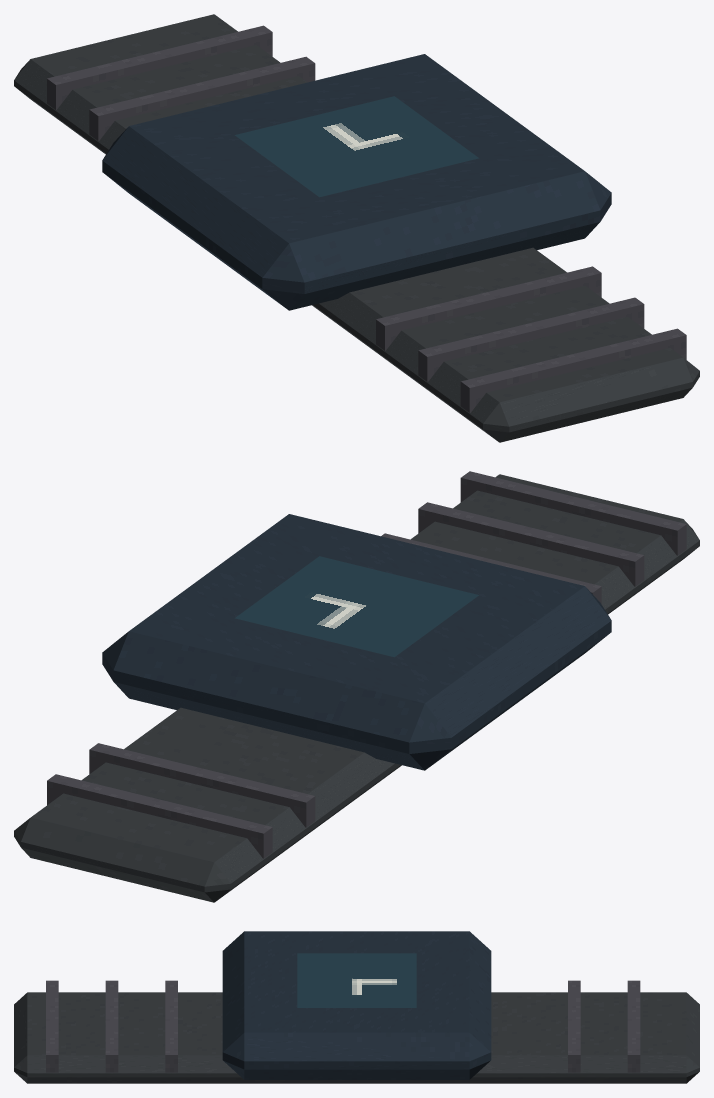
Rendered from smart_watch.glb.
3 views of the same model, one above another, from view 1: azimuth 30°, elevation 25°; view 2: azimuth 150°, elevation 25°; view 3: azimuth 270°, elevation 25° (orthographic). The views are drawn at different scales.
Parts seen in each view (by area): view 1: block_rectangular screen, block_wrist strap, block_bracelet segment (×5), block_watch face; view 2: block_rectangular screen, block_wrist strap, block_bracelet segment (×5), block_watch face; view 3: block_wrist strap, block_rectangular screen, block_watch face, block_bracelet segment (×5).
Part boxes in pixels (bbox=[...]): block_rectangular screen: bbox=[102, 54, 611, 310]; block_wrist strap: bbox=[14, 14, 699, 442]; block_bracelet segment (×5): bbox=[47, 25, 686, 412]; block_watch face: bbox=[235, 96, 478, 197]; block_rectangular screen: bbox=[102, 514, 611, 770]; block_wrist strap: bbox=[14, 474, 699, 902]; block_bracelet segment (×5): bbox=[47, 471, 686, 858]; block_watch face: bbox=[235, 556, 478, 657]; block_wrist strap: bbox=[14, 992, 699, 1083]; block_rectangular screen: bbox=[222, 931, 491, 1079]; block_watch face: bbox=[297, 953, 416, 1007]; block_bracelet segment (×5): bbox=[46, 980, 640, 1072].
Size of the model in its own units: 0.0599 by 0.0167 by 0.145.
1 material, 1 textured.
